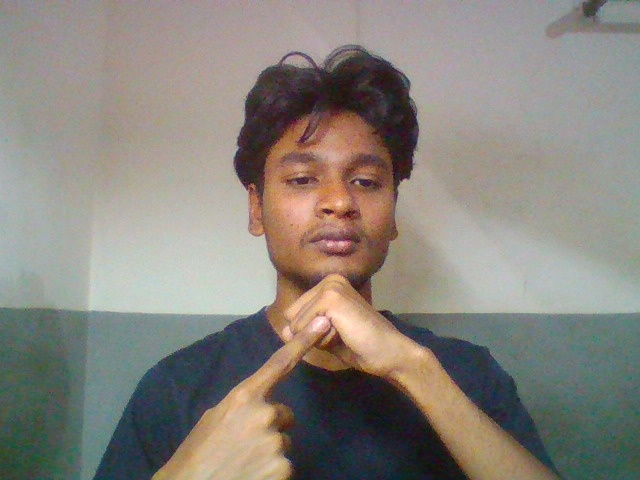Q: (170, 264, 422, 469)
